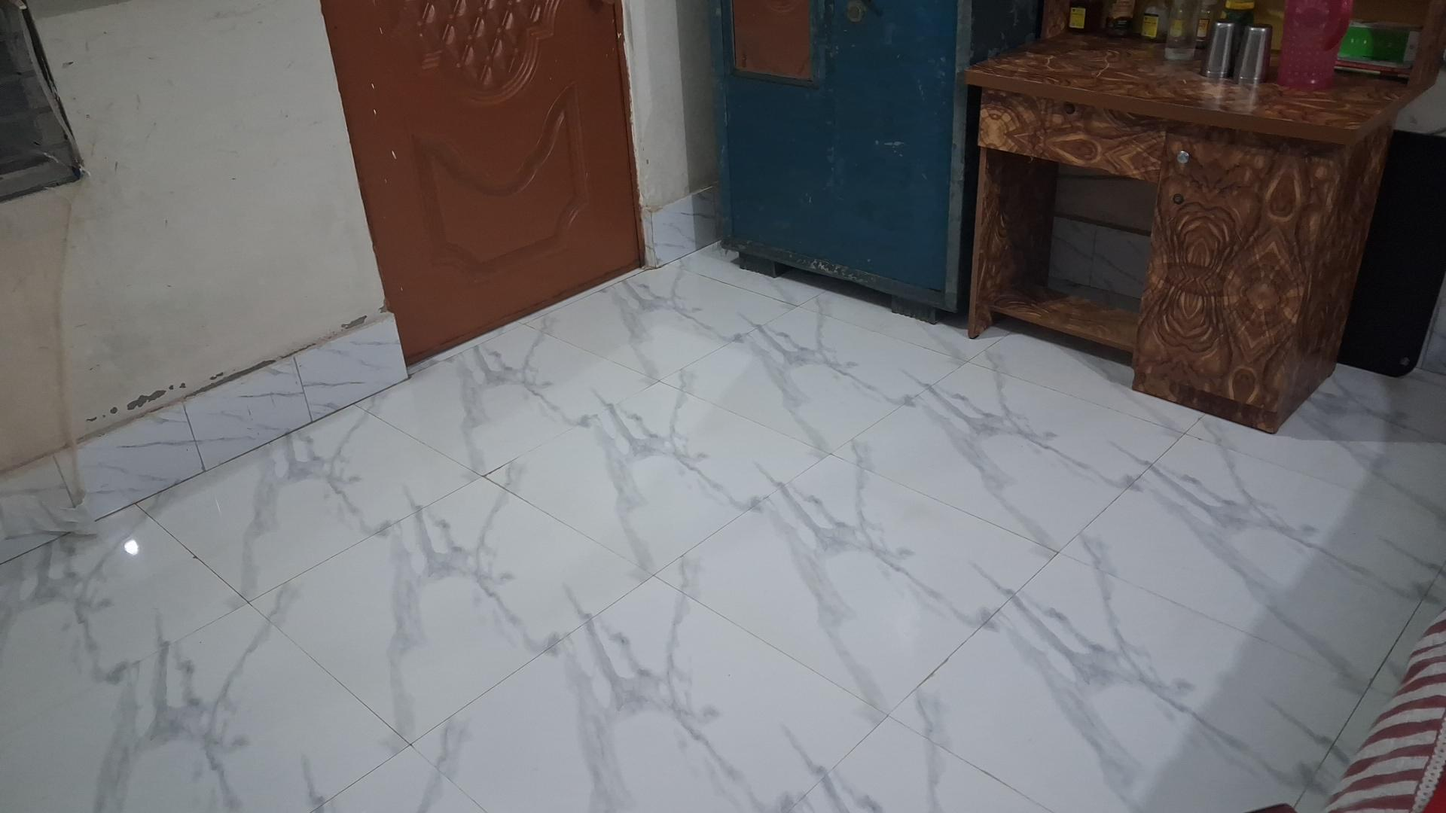Box: (1352, 21, 1415, 69)
Glass: (1205, 17, 1232, 79), (1238, 21, 1265, 83)
